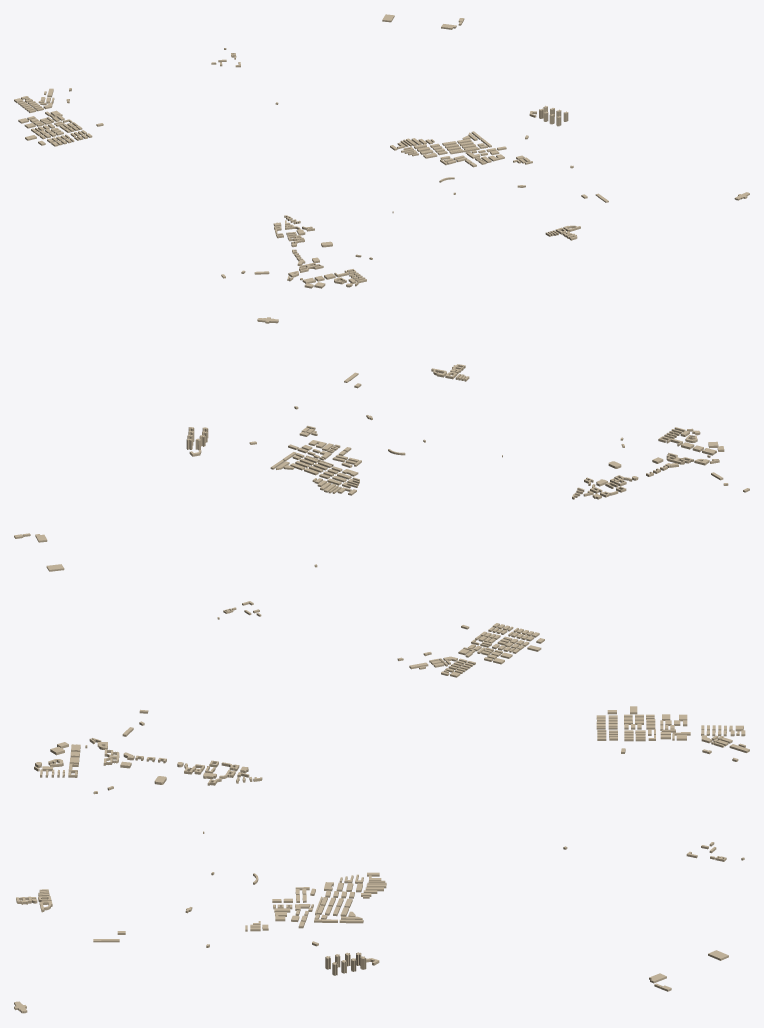
The model's file is overview-estimated--5_3.glb.
3 renders of one model, top to bottom at view 1: azimuth 30°, elevation 25°; view 2: azimuth 150°, elevation 25°; view 3: azimuth 270°, elevation 25°, orthographic. The views are drawn at different scales.
Size of the model in its own units: 3945 by 68.01 by 4018.
